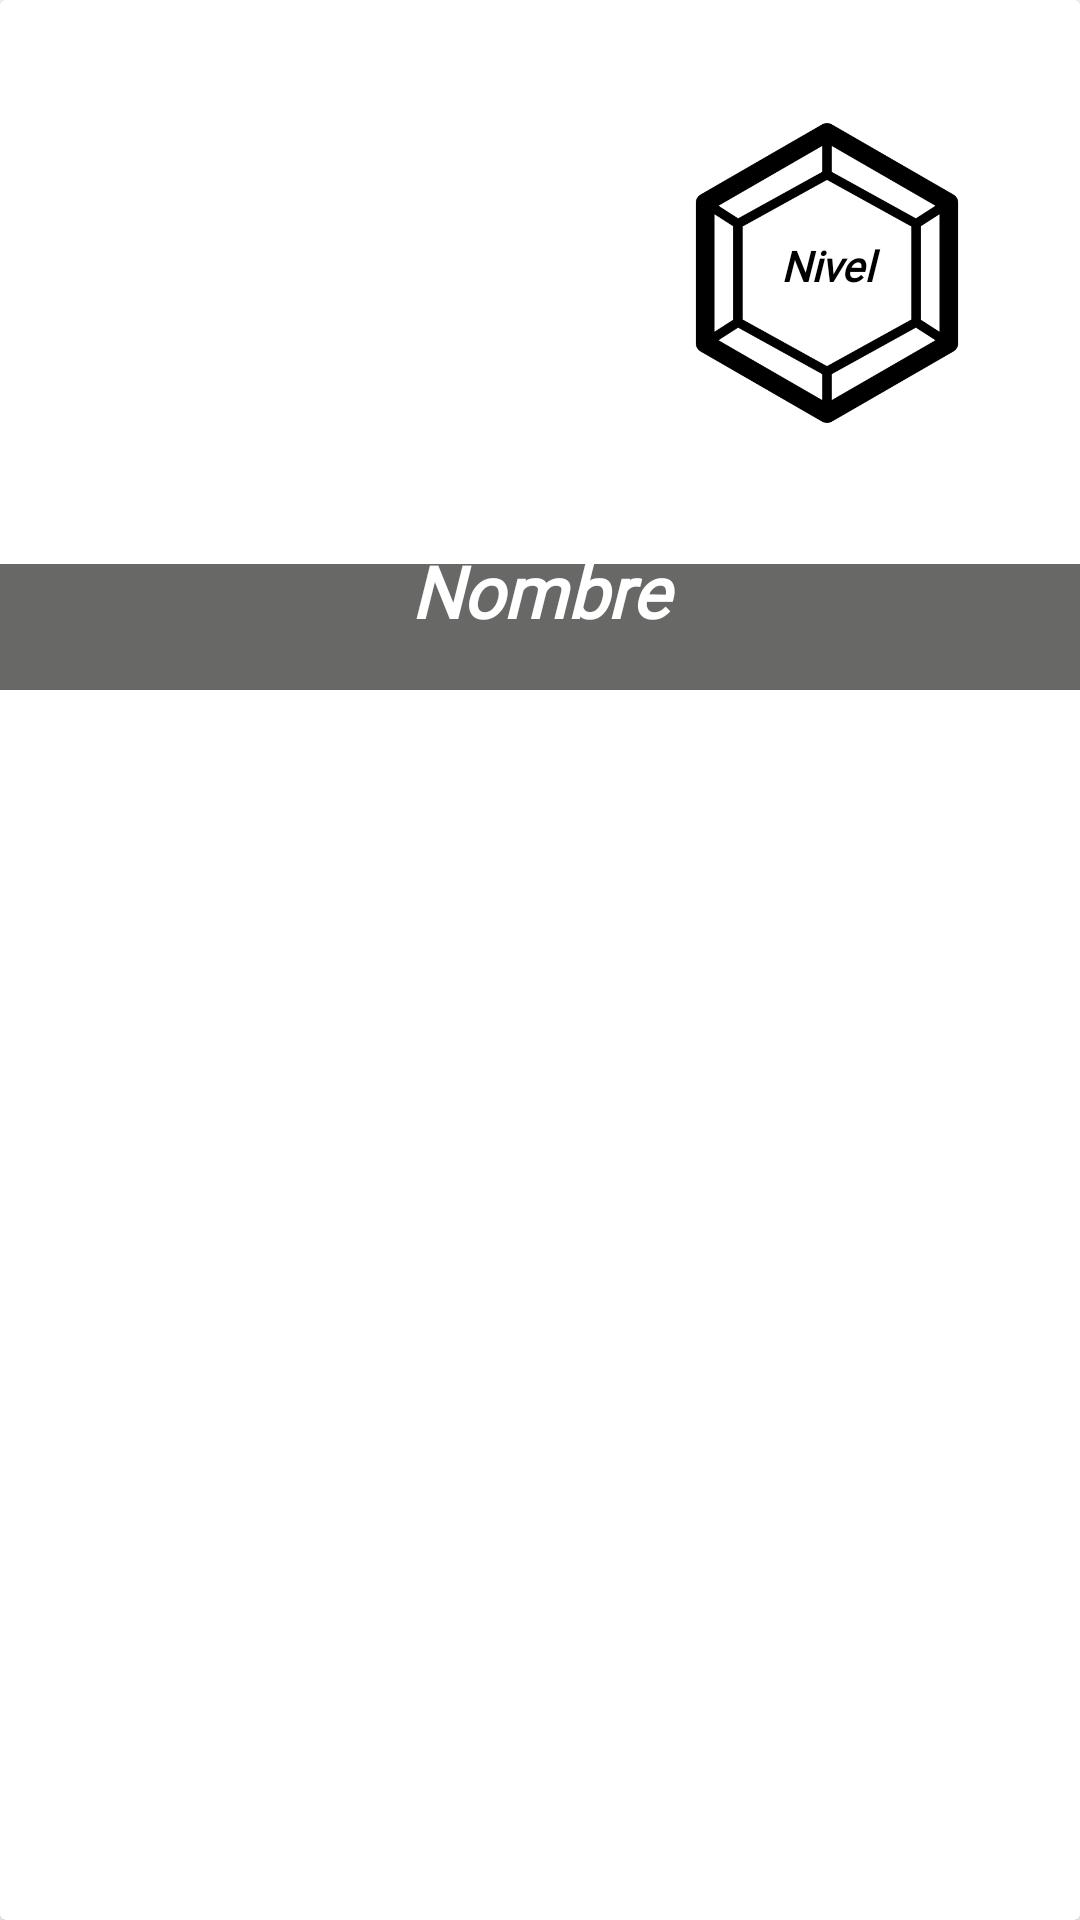

Icon click points for this 1080 × 1920 phone screenshot, format (x=x, y=y):
insignia: (x=827, y=273)
